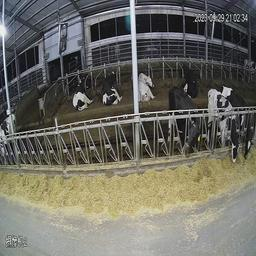cow: (166, 86, 203, 172), (208, 89, 240, 172), (225, 79, 252, 164), (174, 56, 201, 99), (71, 74, 96, 118), (100, 62, 120, 113), (139, 65, 158, 112)
